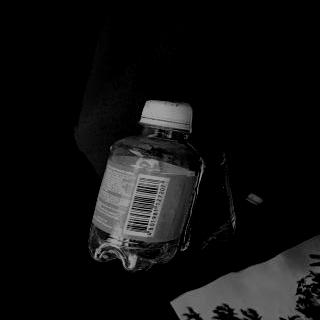bottle: (84, 98, 202, 272)
